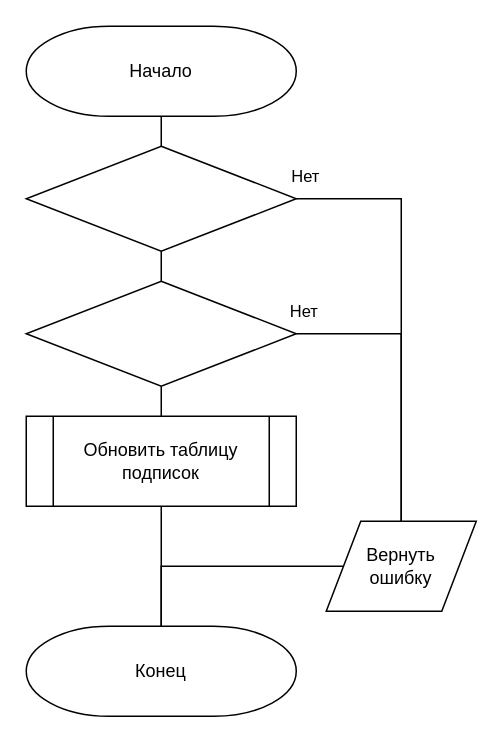
This 503x743 diagram has some shape labels left out. The shapes that lost their labels are listed below. From the top down, each one's centre as x and y in pixels, then its label:
At point (160, 198): "Пользователь существует".
At point (160, 333): "Рейс существует".
